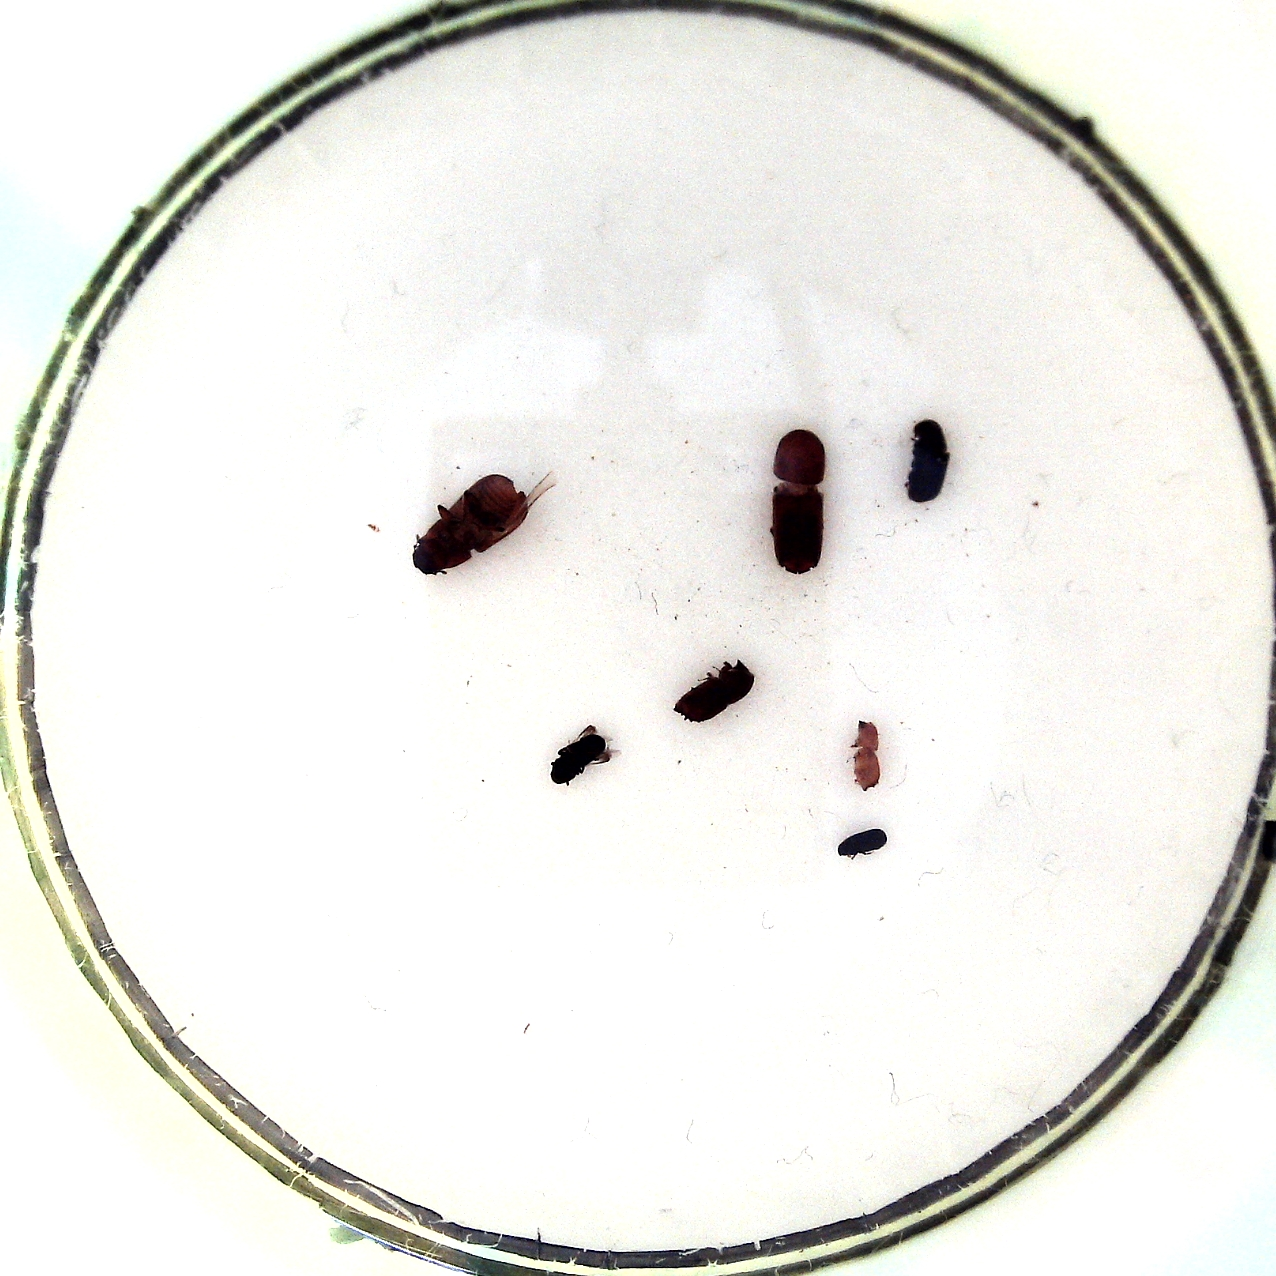Boerner: (764, 423, 837, 577)
Leconte: (402, 469, 564, 580)
Linnaeus: (668, 656, 761, 728)
acuminatus: (846, 717, 889, 797)
armandi: (899, 414, 958, 509)
coleoptera: (545, 720, 622, 791), (830, 820, 892, 861)
